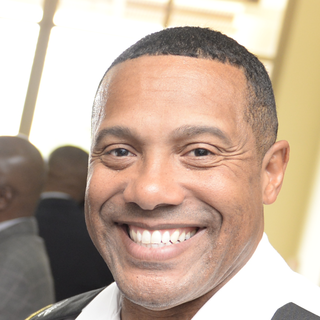eye: (177, 142, 227, 166), (100, 142, 143, 166)
